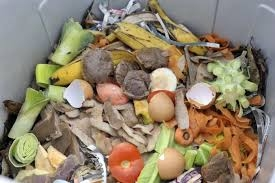kitchen_waste: (106, 16, 196, 72), (204, 50, 263, 117), (146, 1, 216, 55), (4, 85, 62, 138), (45, 16, 100, 66), (5, 130, 55, 175), (101, 141, 150, 183), (111, 59, 157, 102), (131, 41, 180, 74), (60, 77, 99, 115), (79, 45, 116, 84), (154, 147, 190, 182), (145, 90, 178, 126), (182, 81, 219, 111), (146, 65, 179, 96), (173, 122, 199, 146)
